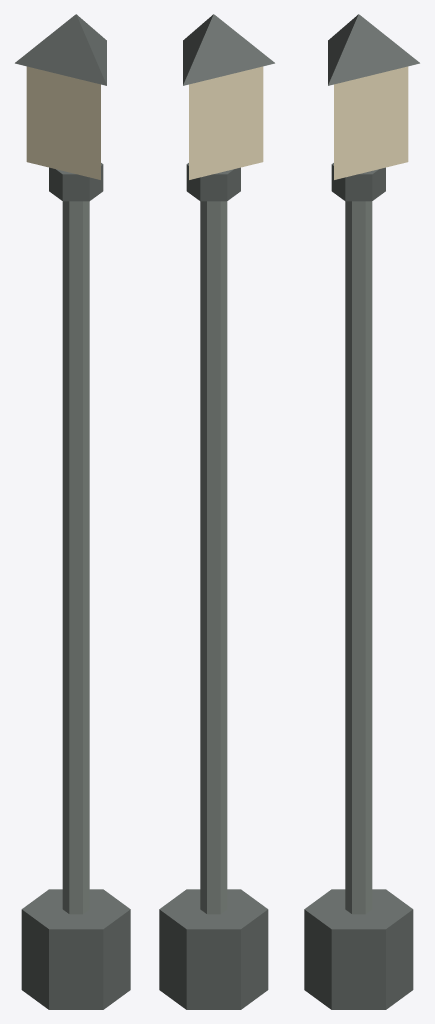
The model's file is street-lamp-lod1.glb.
The picture shows the model from 3 angles, left to right: view 1: azimuth 90°, elevation 25°; view 2: azimuth 150°, elevation 25°; view 3: azimuth 270°, elevation 25°; orthographic projection.
Visible parts, largest first — view 1: post, base, lantern, cap, collar; view 2: post, base, lantern, cap, collar; view 3: post, base, lantern, cap, collar.
Boxes of the visible parts, box(x1,y1,x2,y2) form: post: box(62, 201, 89, 914); base: box(21, 889, 130, 1009); lantern: box(26, 66, 100, 179); cap: box(15, 14, 106, 85); collar: box(49, 163, 103, 201); post: box(200, 201, 227, 914); base: box(159, 889, 268, 1009); lantern: box(189, 66, 263, 179); cap: box(183, 14, 274, 85); collar: box(186, 163, 240, 201); post: box(345, 201, 372, 914); base: box(304, 889, 413, 1009); lantern: box(334, 66, 408, 179); cap: box(328, 14, 419, 85); collar: box(331, 163, 385, 201).
Bounding box in the file's own units: 0.433 × 4.35 × 0.47.
